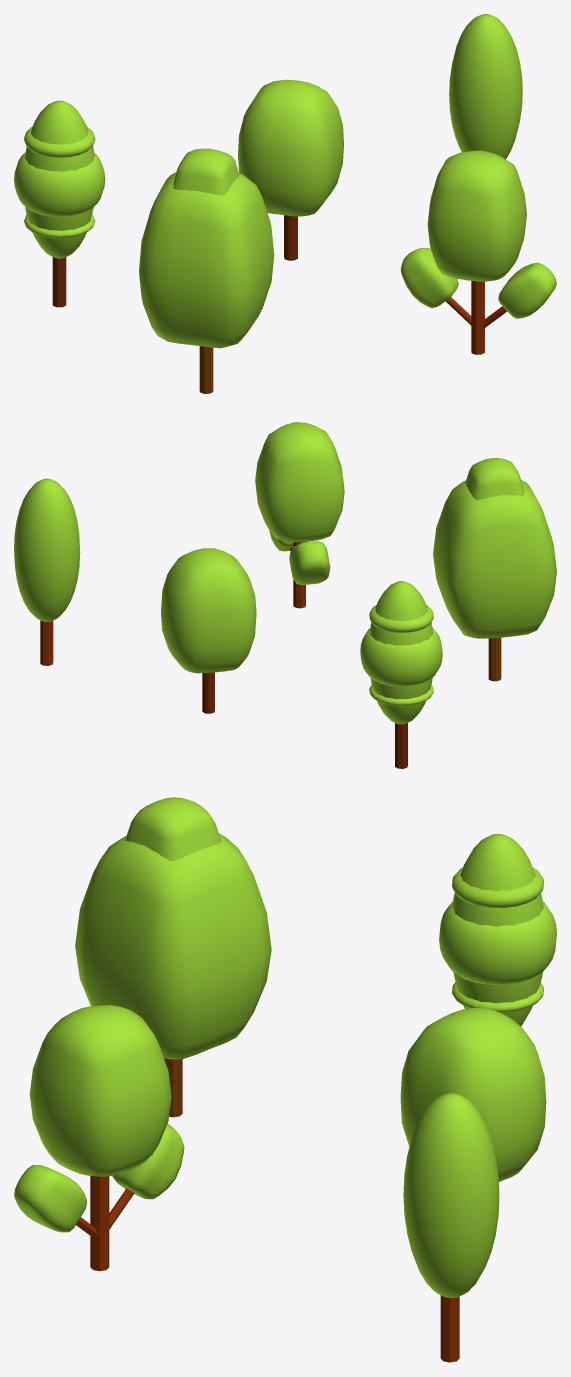
Rendered from trees.fbx.
3 renders of one model, top to bottom at view 1: azimuth 30°, elevation 25°; view 2: azimuth 150°, elevation 25°; view 3: azimuth 270°, elevation 25°, orthographic. The views are drawn at different scales.
Visible parts, largest first — view 1: Trees:Tree2, Trees:Tree4, Trees:Tree1, Trees:Tree5, Trees:Tree; view 2: Trees:Tree2, Trees:Tree4, Trees:Tree1, Trees:Tree5, Trees:Tree; view 3: Trees:Tree2, Trees:Tree4, Trees:Tree, Trees:Tree5, Trees:Tree1.
Boxes of the visible parts, x1=… form: Trees:Tree2: x1=139, y1=148, x2=274, y2=393; Trees:Tree4: x1=400, y1=150, x2=556, y2=354; Trees:Tree1: x1=238, y1=79, x2=343, y2=260; Trees:Tree5: x1=14, y1=100, x2=105, y2=307; Trees:Tree: x1=449, y1=14, x2=522, y2=159; Trees:Tree2: x1=433, y1=458, x2=556, y2=681; Trees:Tree4: x1=255, y1=422, x2=344, y2=608; Trees:Tree1: x1=161, y1=548, x2=256, y2=713; Trees:Tree5: x1=360, y1=581, x2=442, y2=768; Trees:Tree: x1=14, y1=478, x2=80, y2=665; Trees:Tree2: x1=75, y1=797, x2=271, y2=1117; Trees:Tree4: x1=14, y1=1005, x2=184, y2=1271; Trees:Tree: x1=403, y1=1093, x2=499, y2=1362; Trees:Tree5: x1=439, y1=834, x2=556, y2=1026; Trees:Tree1: x1=400, y1=1007, x2=546, y2=1181.
Bounding box in the file's own units: 15.11 × 7.14 × 11.29.
